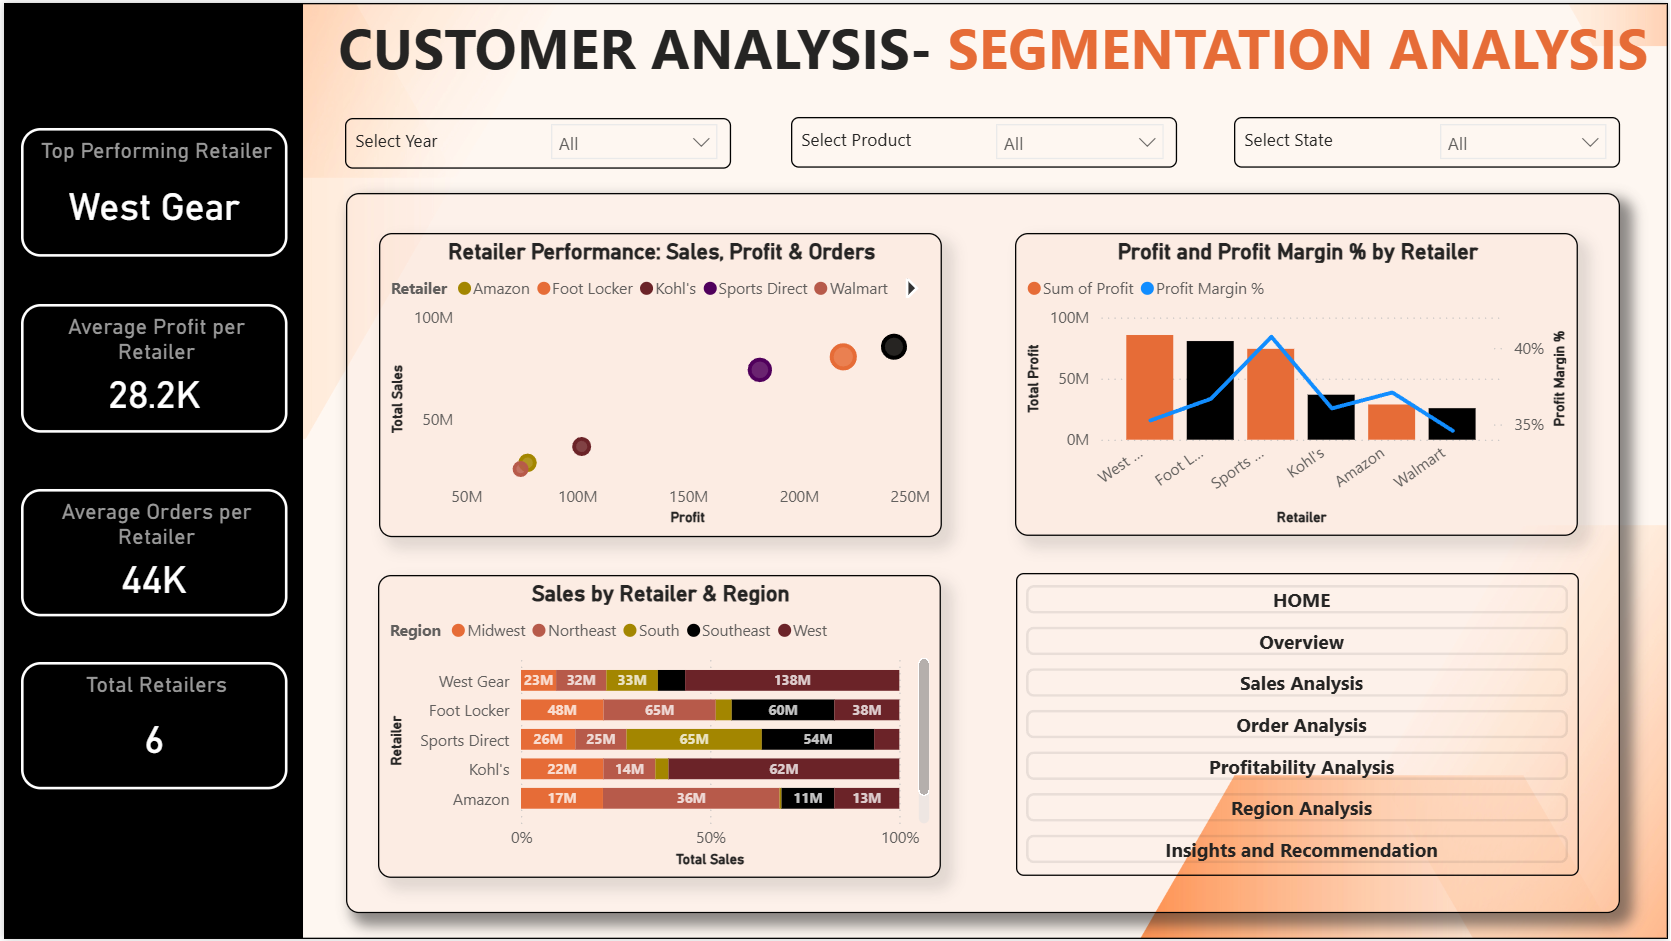

The dashboard page shown, as its layout file describes it:
{"tool":"powerbi","page":{"name":"Customer Analysis","canvas":[1280,720],"ordinal":6},"visuals":[{"type":"textbox","box":[0,0,1280,720],"z":0},{"type":"textbox","box":[252.1,0,1027.9,79.2],"z":1000},{"type":"textbox","box":[263,146,980.2,554.2],"z":2000},{"type":"textbox","box":[0,0,230,719.8],"z":3000},{"type":"card","title":"Top Performing Retailer","fields":{"Values":["Min(Data Sales Adidas.Retailer)"]},"box":[12.9,96.4,204.5,98.7],"z":4000},{"type":"card","title":"Average Profit per Retailer","fields":{"Values":["Avg(Data Sales Adidas.Profit)"]},"box":[12.9,231.6,204.5,98.7],"z":5000},{"type":"hundredPercentStackedBarChart","title":"Sales by Retailer & Region","fields":{"Category":["Data Sales Adidas.Retailer"],"Y":["Sum(Data Sales Adidas.Total Sales)"],"Series":["Data Sales Adidas.Region"]},"box":[288,440,433,233],"z":6000},{"type":"scatterChart","title":"Retailer Performance: Sales, Profit & Orders","fields":{"Size":["Data Sales Adidas.total orders average per Retailer"],"Y":["Sum(Data Sales Adidas.Profit)"],"X":["Sum(Data Sales Adidas.Total Sales)"],"Series":["Data Sales Adidas.Retailer"]},"box":[288.8,177.2,433.1,233.6],"z":7000},{"type":"textbox","box":[262.5,88.3,296.7,39.2],"z":8000},{"type":"textbox","box":[605.1,87.9,296.6,39.4],"z":9000},{"type":"textbox","box":[946.4,87.9,296.6,39.4],"z":10000},{"type":"slicer","fields":{"Values":["Data Sales Adidas.Order Date.Variation.Date Hierarchy.Year"]},"box":[410.8,83.1,148.5,48.5],"z":11000},{"type":"slicer","fields":{"Values":["Data Sales Adidas.Product"]},"box":[753.1,83.1,149.2,43.8],"z":12000},{"type":"slicer","fields":{"Values":["Data Sales Adidas.State"]},"box":[1094.6,83.1,148.5,46.2],"z":13000},{"type":"card","title":"Average Orders per Retailer","fields":{"Values":["Data Sales Adidas.avg order"]},"box":[12.9,373.8,204.5,97.6],"z":14000},{"type":"card","title":"Total Retailers","fields":{"Values":["Count(Data Sales Adidas.Retailer)"]},"box":[12.9,506.6,204.5,97.6],"z":15000},{"type":"lineClusteredColumnComboChart","title":"Profit and Profit Margin % by Retailer","fields":{"Category":["Data Sales Adidas.Retailer"],"Y":["Sum(Data Sales Adidas.Profit)"],"Y2":["Data Sales Adidas.Profit Margin 2 %"]},"box":[778,177,433,233],"z":16000},{"type":"textbox","box":[778.5,438.4,433.1,233.1],"z":17000},{"type":"pageNavigator","box":[786,448.1,417,216],"z":18000}]}

Visuals, with their boxes in screenshot pixels (x1, y1, x2, y2), scaled from the page's 1280x720 canvas onto the 1671x941 screenshot:
textbox: BBox(0, 0, 1670, 940)
textbox: BBox(329, 0, 1670, 104)
textbox: BBox(343, 191, 1623, 915)
textbox: BBox(0, 0, 300, 940)
"Top Performing Retailer" card: BBox(17, 126, 284, 255)
"Average Profit per Retailer" card: BBox(17, 303, 284, 432)
"Sales by Retailer & Region" hundredPercentStackedBarChart: BBox(376, 575, 941, 880)
"Retailer Performance: Sales, Profit & Orders" scatterChart: BBox(377, 232, 942, 537)
textbox: BBox(343, 115, 730, 167)
textbox: BBox(790, 115, 1177, 166)
textbox: BBox(1235, 115, 1623, 166)
slicer - Data Sales Adidas.Order Date.Variation.Date Hierarchy.Year: BBox(536, 109, 730, 172)
slicer - Data Sales Adidas.Product: BBox(983, 109, 1178, 166)
slicer - Data Sales Adidas.State: BBox(1429, 109, 1623, 169)
"Average Orders per Retailer" card: BBox(17, 489, 284, 616)
"Total Retailers" card: BBox(17, 662, 284, 790)
"Profit and Profit Margin % by Retailer" lineClusteredColumnComboChart: BBox(1016, 231, 1581, 536)
textbox: BBox(1016, 573, 1582, 878)
pageNavigator: BBox(1026, 586, 1570, 868)
